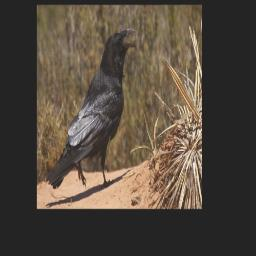Crow: (45, 29, 136, 189)
